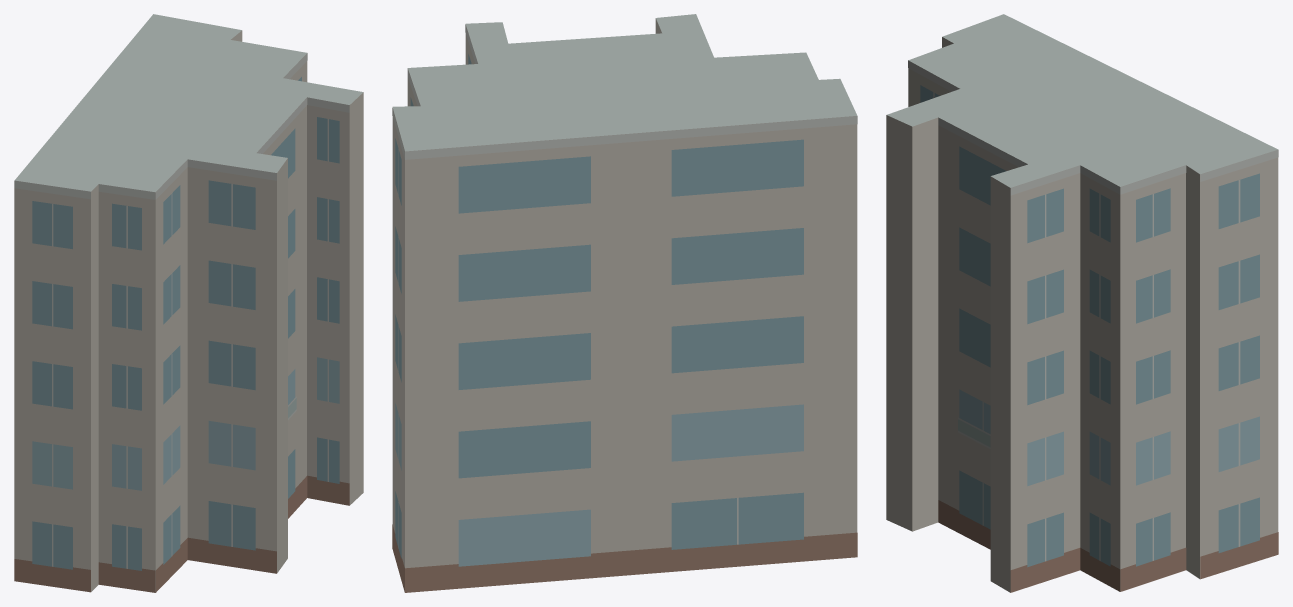
Rendered from survey-upis-32737756.glb.
3 renders of one model, left to right at view 1: azimuth 30°, elevation 25°; view 2: azimuth 150°, elevation 25°; view 3: azimuth 270°, elevation 25°, orthographic. The views are drawn at different scales.
Visible parts, largest first — view 1: survey-upis-32737756.tmp; view 2: survey-upis-32737756.tmp; view 3: survey-upis-32737756.tmp.
Boxes of the visible parts, x1,y1,x2,y2 form: survey-upis-32737756.tmp: [14, 14, 363, 592]; survey-upis-32737756.tmp: [392, 14, 857, 592]; survey-upis-32737756.tmp: [886, 14, 1278, 592].
Size of the model in its own units: 11.7 by 12.7 by 11.15.
